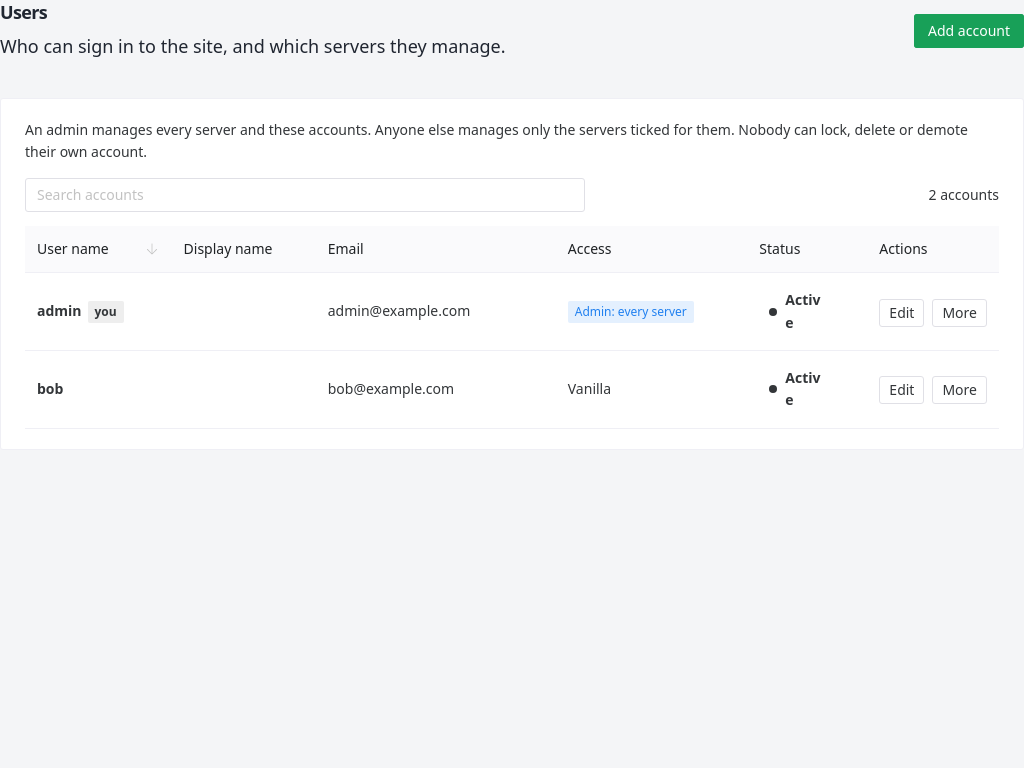
UsersView › asks before deleting, then deletes
Click the button "More" in the row of "bob@example.com".
click(960, 390)  # box [932, 376, 987, 404]
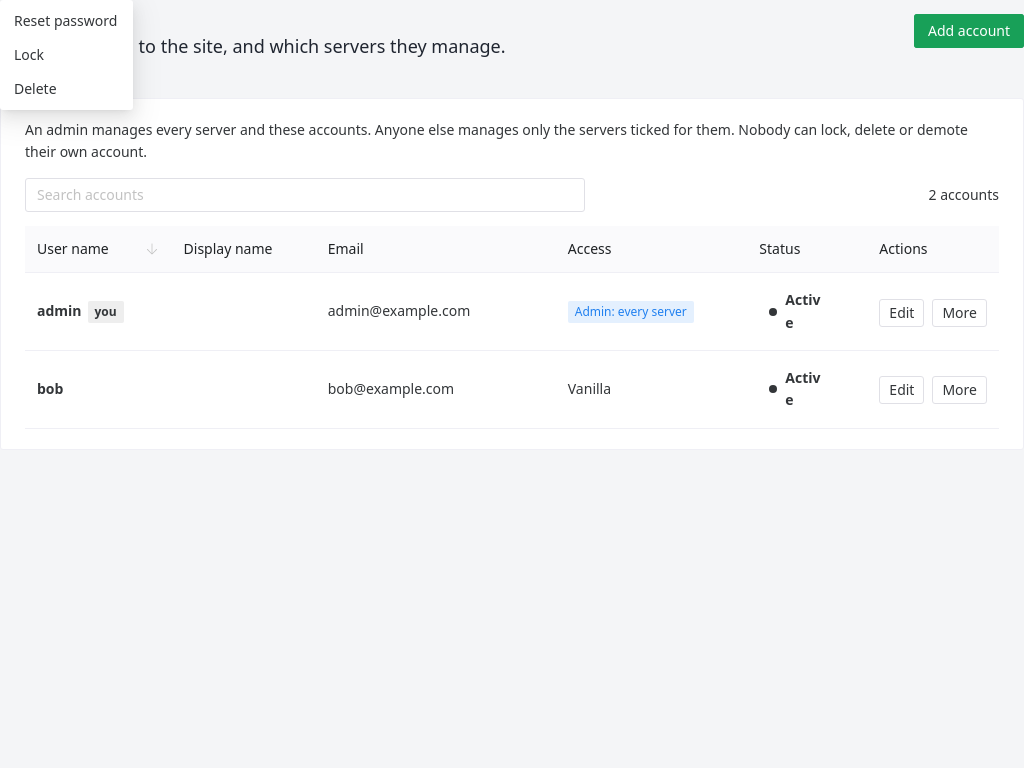
Click the element with class "n-dropdown-option-body" showing "Delete".
click(35, 88)  # box [14, 79, 57, 98]
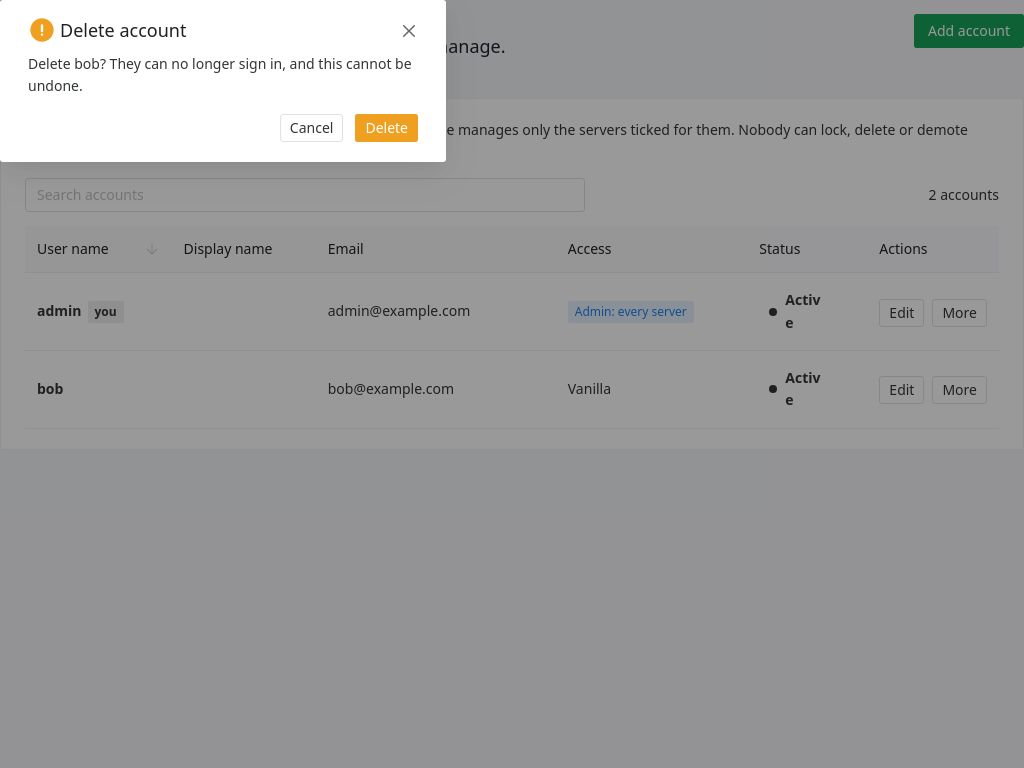
expect the text "Delete bob?" is shown: met, box [28, 54, 412, 95]
Click the button "Delete".
click(387, 128)  # box [355, 114, 418, 142]
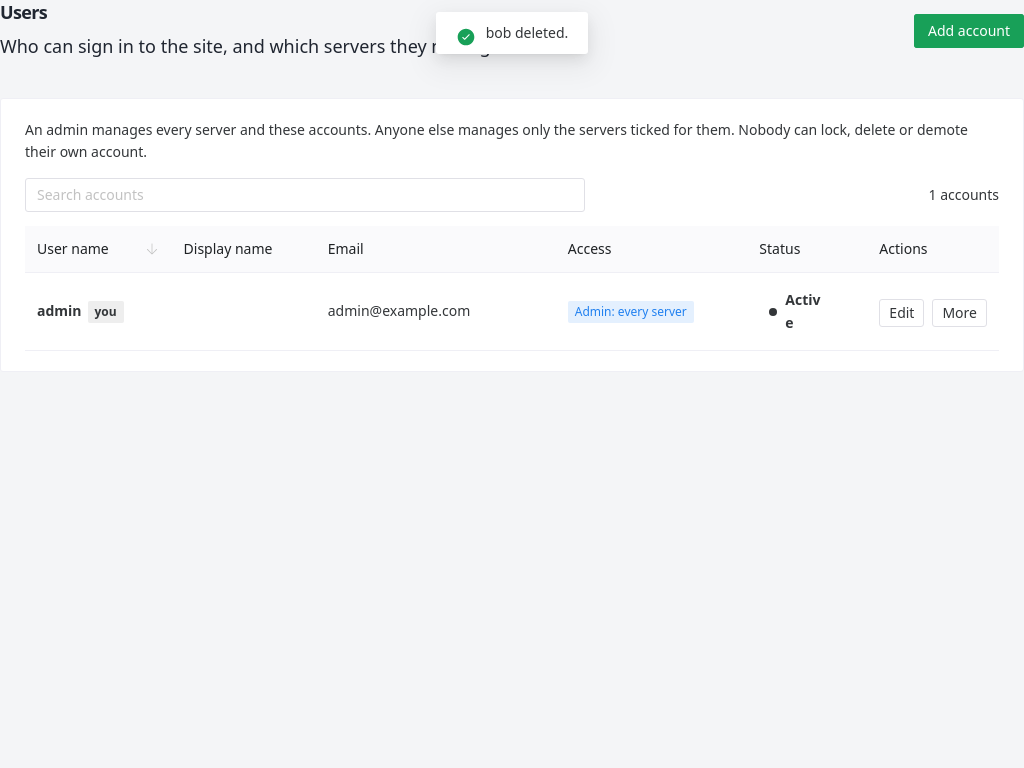
expect the text "bob@example.com" is gone: met
